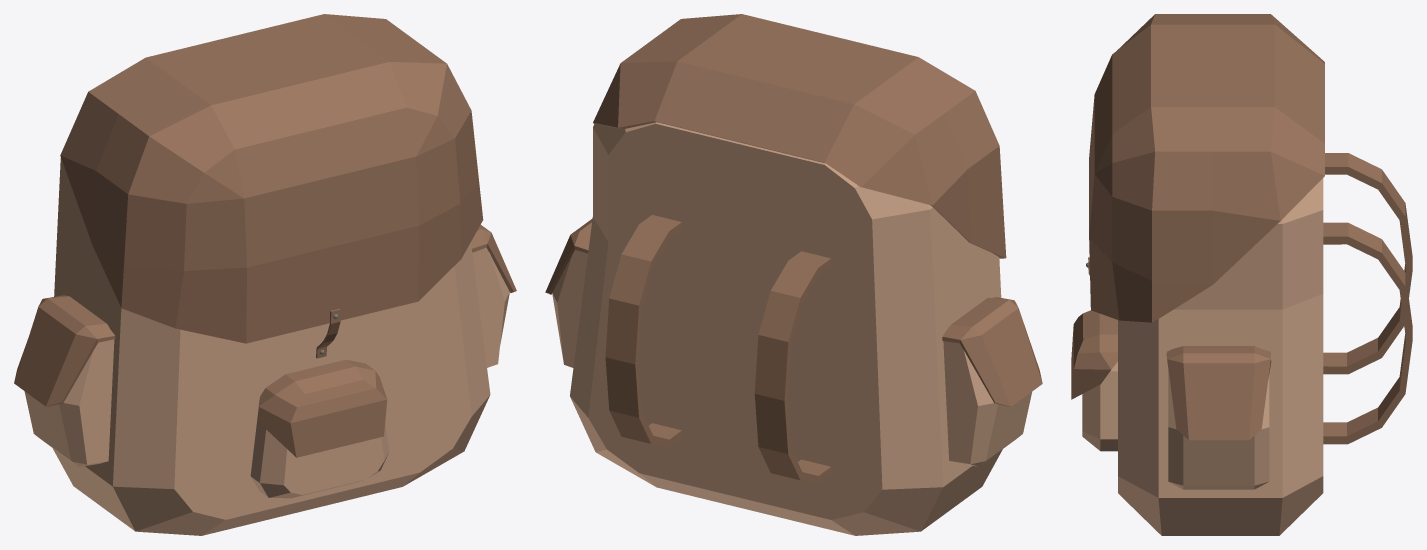
Rendered from Backpack.fbx.
3 views of the same model, side by side, from view 1: azimuth 30°, elevation 25°; view 2: azimuth 150°, elevation 25°; view 3: azimuth 270°, elevation 25° (orthographic). The views are drawn at different scales.
Parts seen in each view (by area): view 1: Backpack; view 2: Backpack; view 3: Backpack.
Boxes of the visible parts, box(x1,y1,x2,y2) form: Backpack: box(14, 14, 516, 535); Backpack: box(545, 14, 1042, 535); Backpack: box(1071, 14, 1412, 535).
Bounding box in the file's own units: 261 × 228 × 173.
